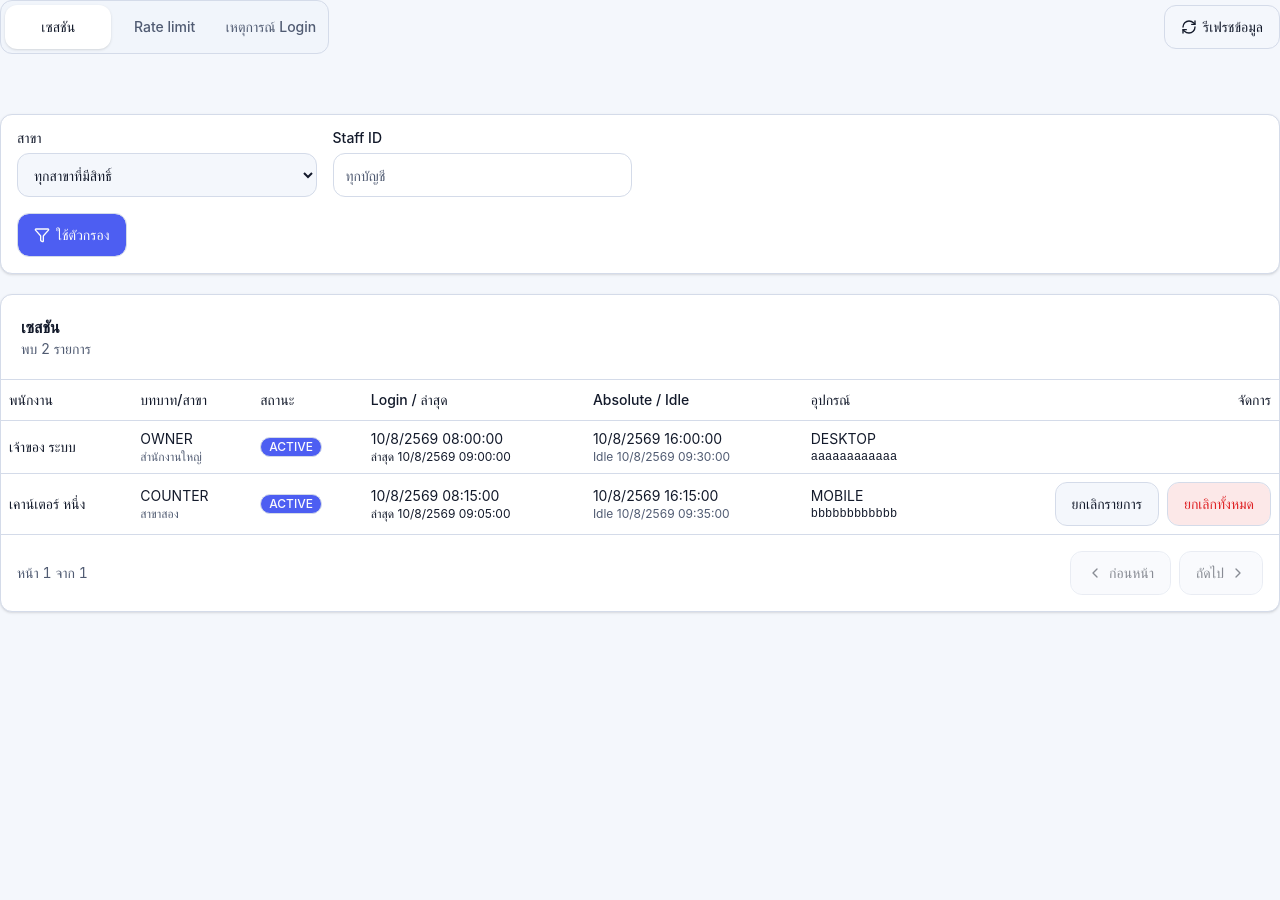
Scenario: SecurityConsole › ใช้ข้อความคงที่สำหรับ HTTP 401 โดยไม่ render HTML/internal response
The width and height of the screenshot is (1280, 900).
Click the button with aria-label "ยกเลิกเซสชันของ เคาน์เตอร์ หนึ่ง": x=1107, y=504 [1055,482,1159,526]
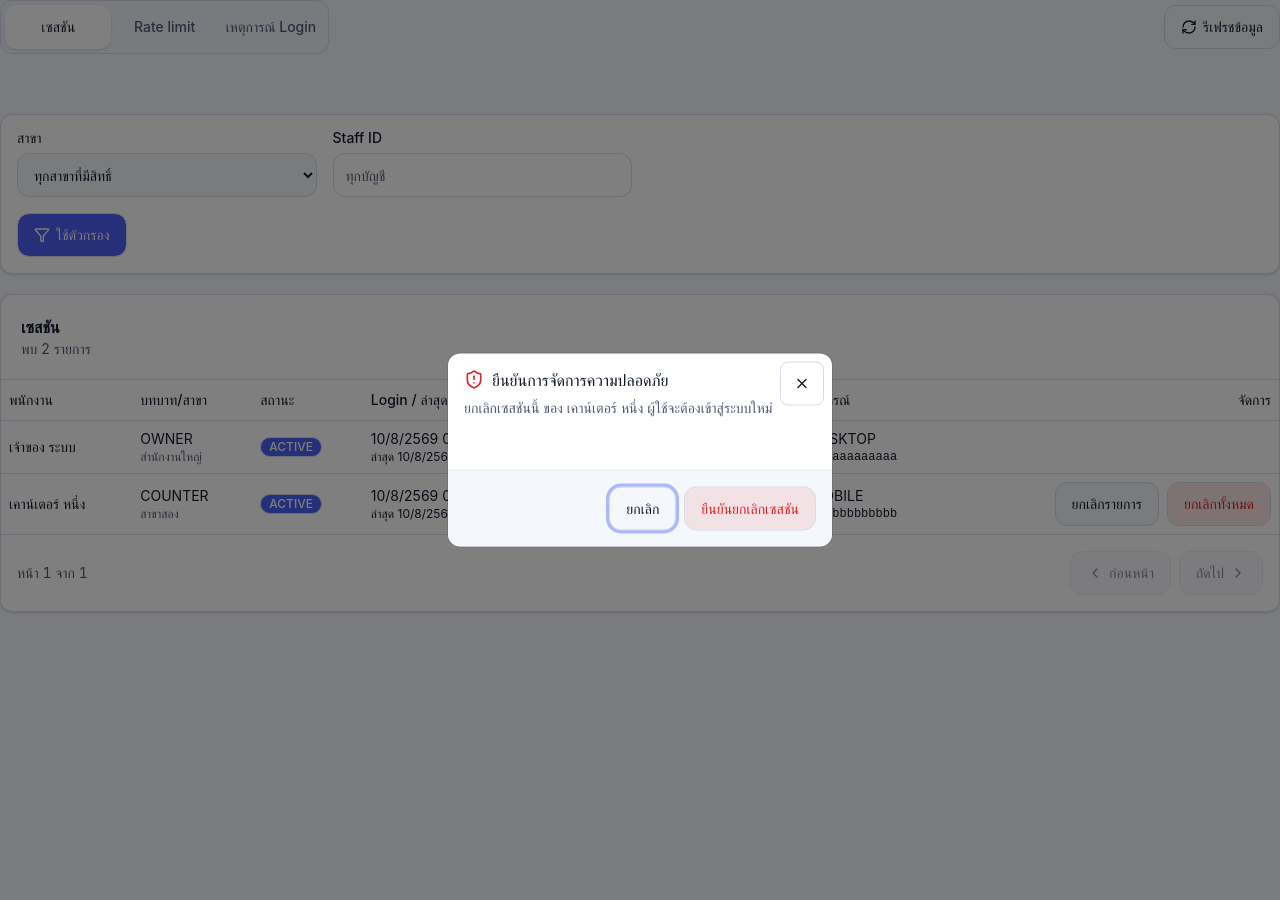
Click the button "ยืนยันยกเลิกเซสชัน": x=750, y=508 [684,486,816,530]
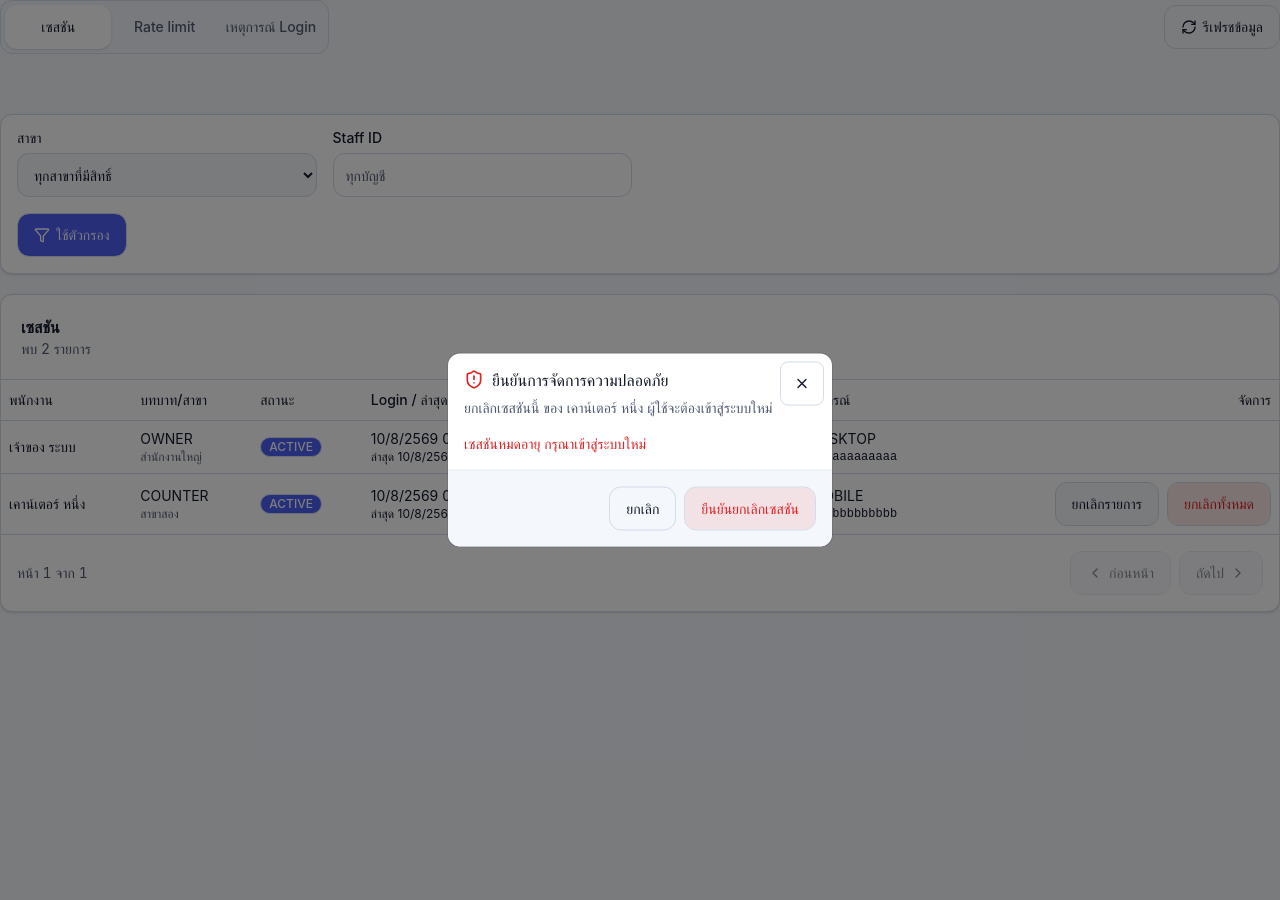
Now the dialog shows "เซสชันหมดอายุ กรุณาเข้าสู่ระบบใหม่", box [464,434,646,452]
